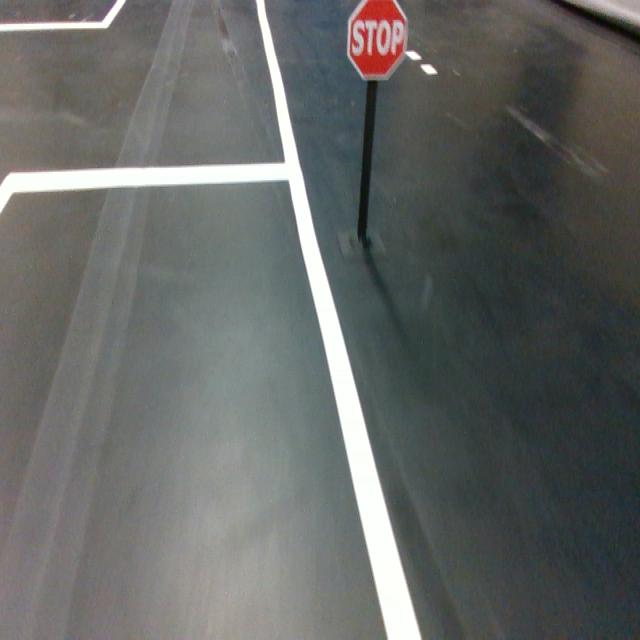stop-sign: (346, 0, 409, 81)
